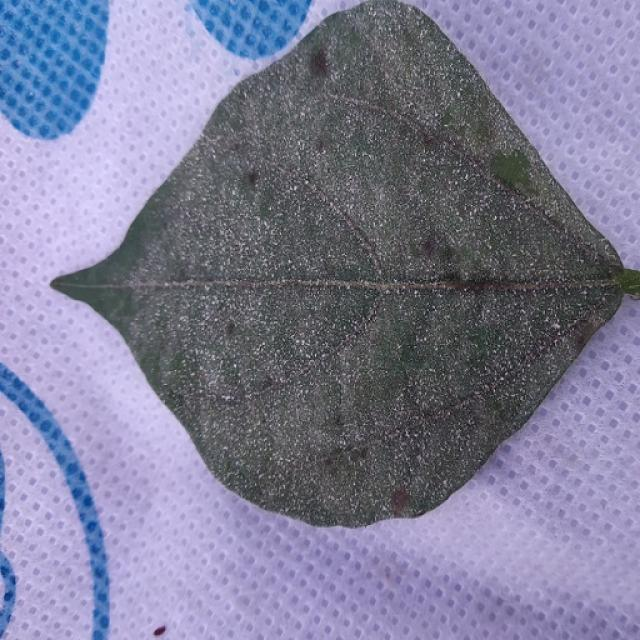Blackgram: (52, 0, 621, 524)
Powdery_Mildew: (331, 115, 521, 267), (417, 285, 576, 427), (271, 77, 426, 199), (223, 296, 364, 405), (143, 293, 266, 413), (317, 306, 434, 430), (319, 5, 461, 103), (168, 204, 322, 280), (344, 2, 438, 47), (294, 337, 308, 347), (412, 288, 422, 297), (291, 184, 299, 192), (303, 178, 311, 186)
